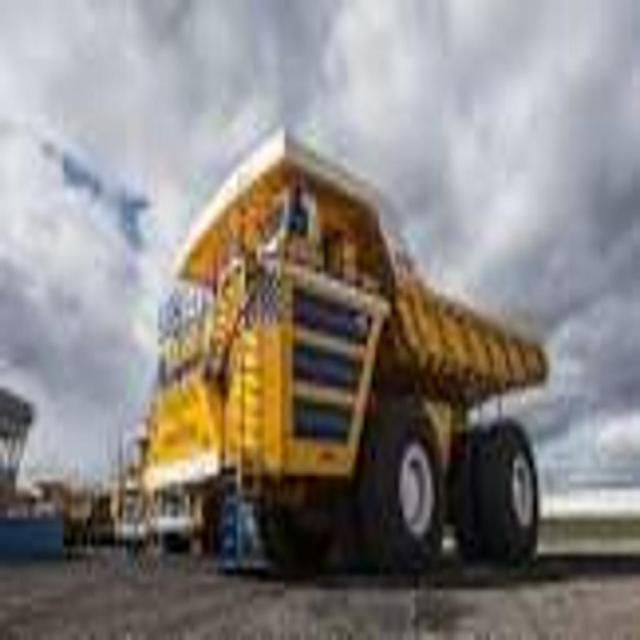dump_truck: (135, 122, 549, 603)
